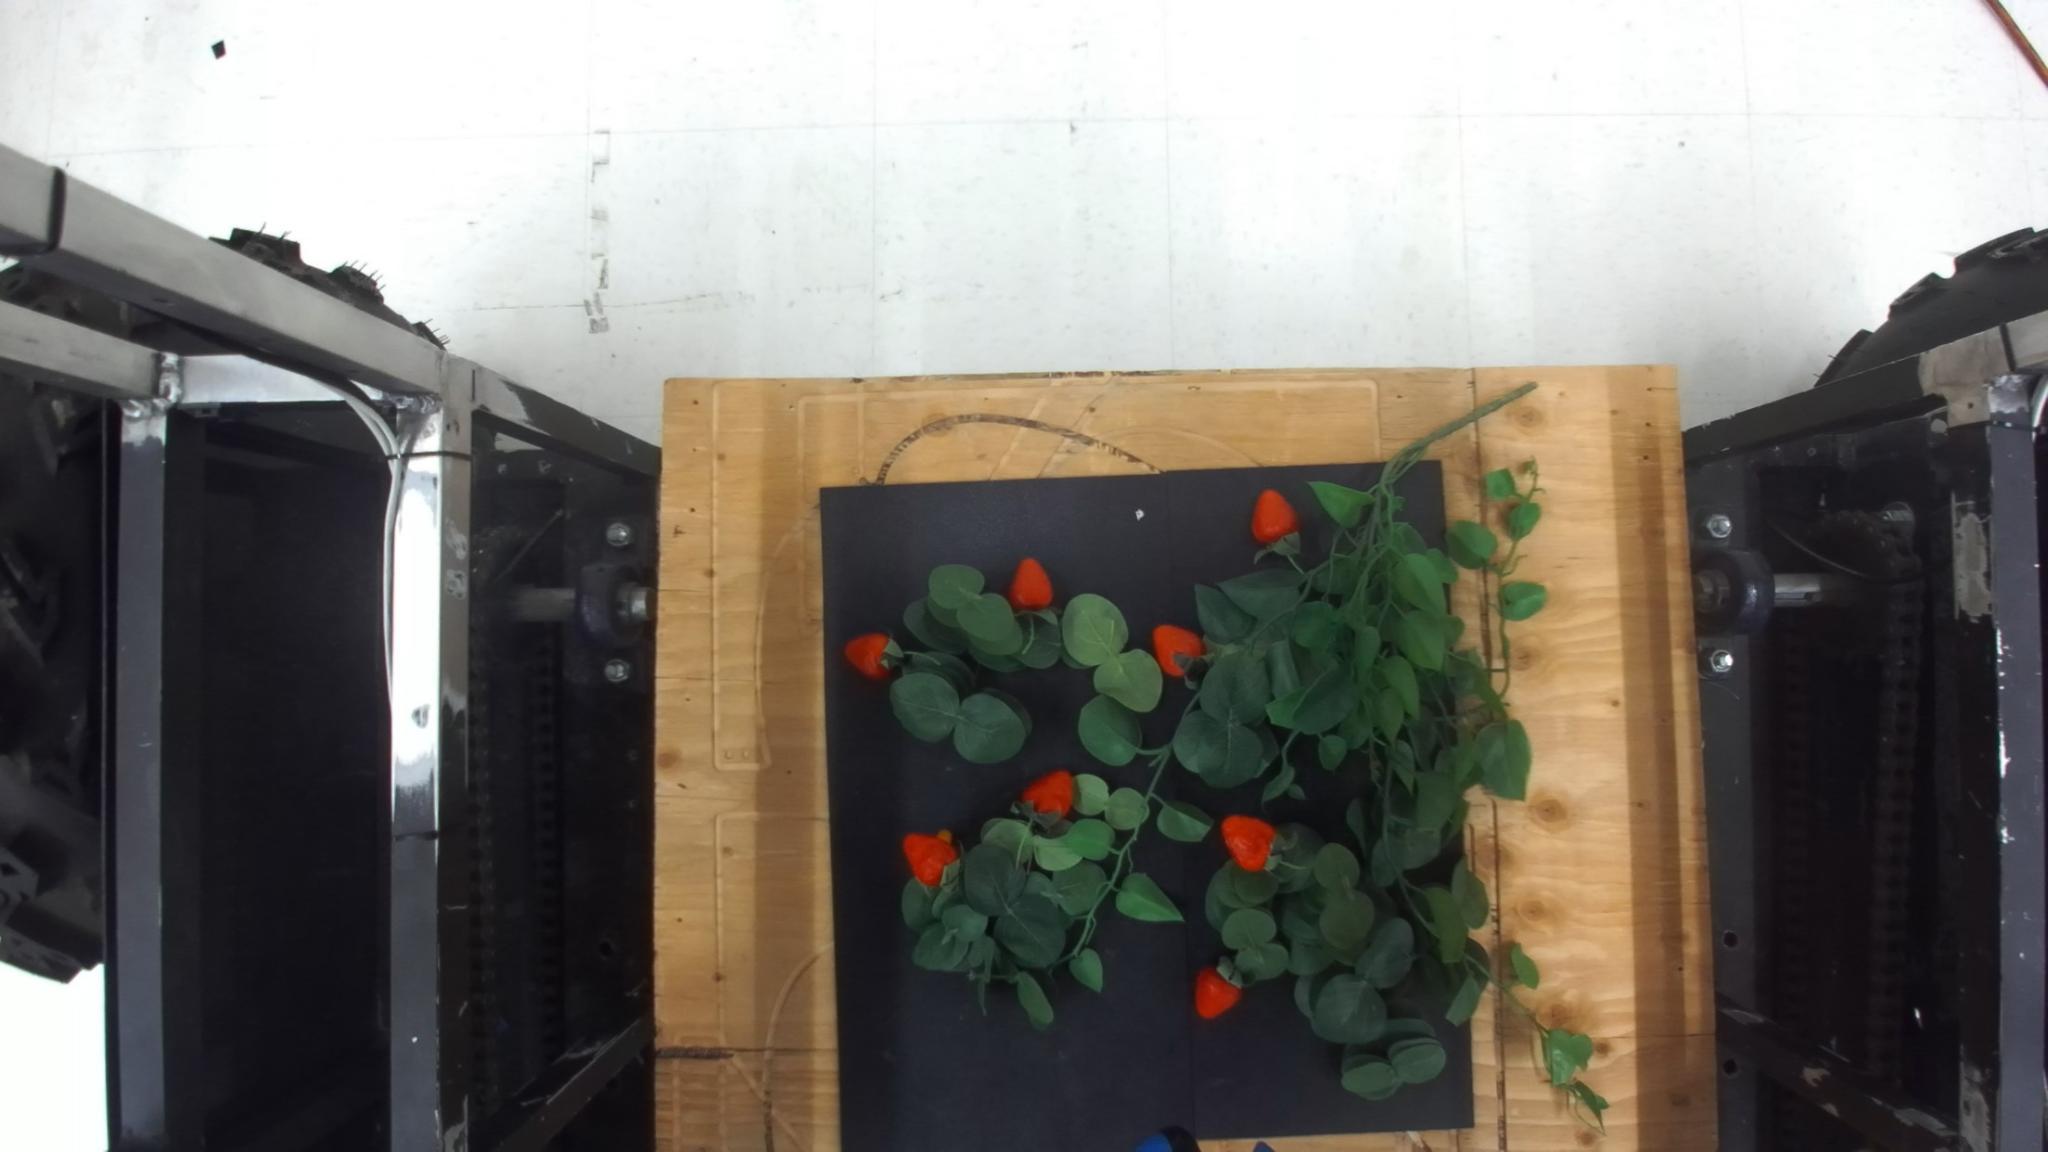strawberry: (1220, 813, 1280, 876), (1190, 954, 1245, 1023), (1151, 617, 1207, 682), (902, 834, 965, 890), (1018, 768, 1076, 827), (844, 633, 903, 685), (1252, 487, 1298, 547), (1009, 556, 1056, 612)
